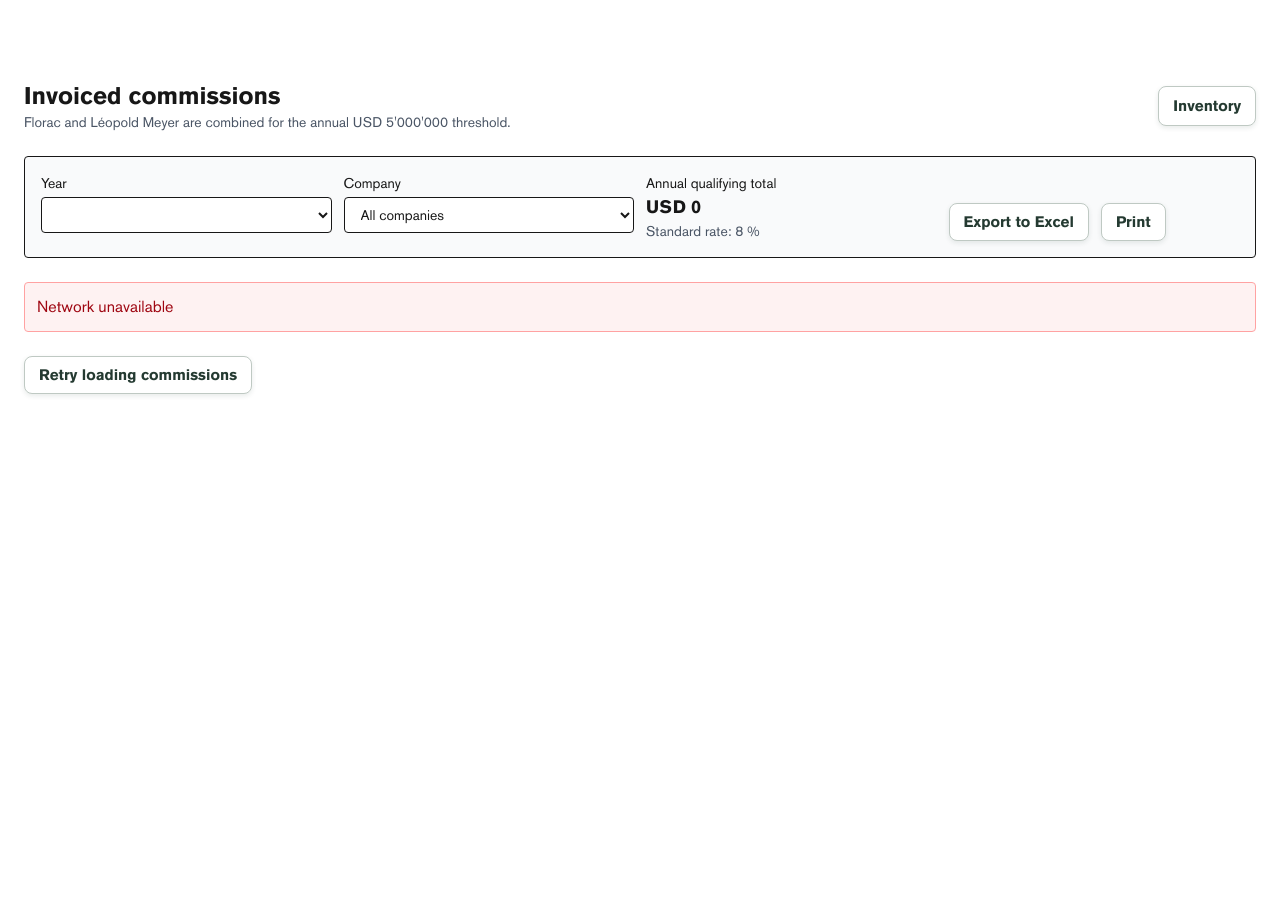
commission invoice file input › stops loading and offers retry after a network failure
Check: the message "Network unavailable" is shown, box [24,282,1256,332]
Step 1. Click the button "Retry loading commissions" → (138, 375), box [24,356,252,394]
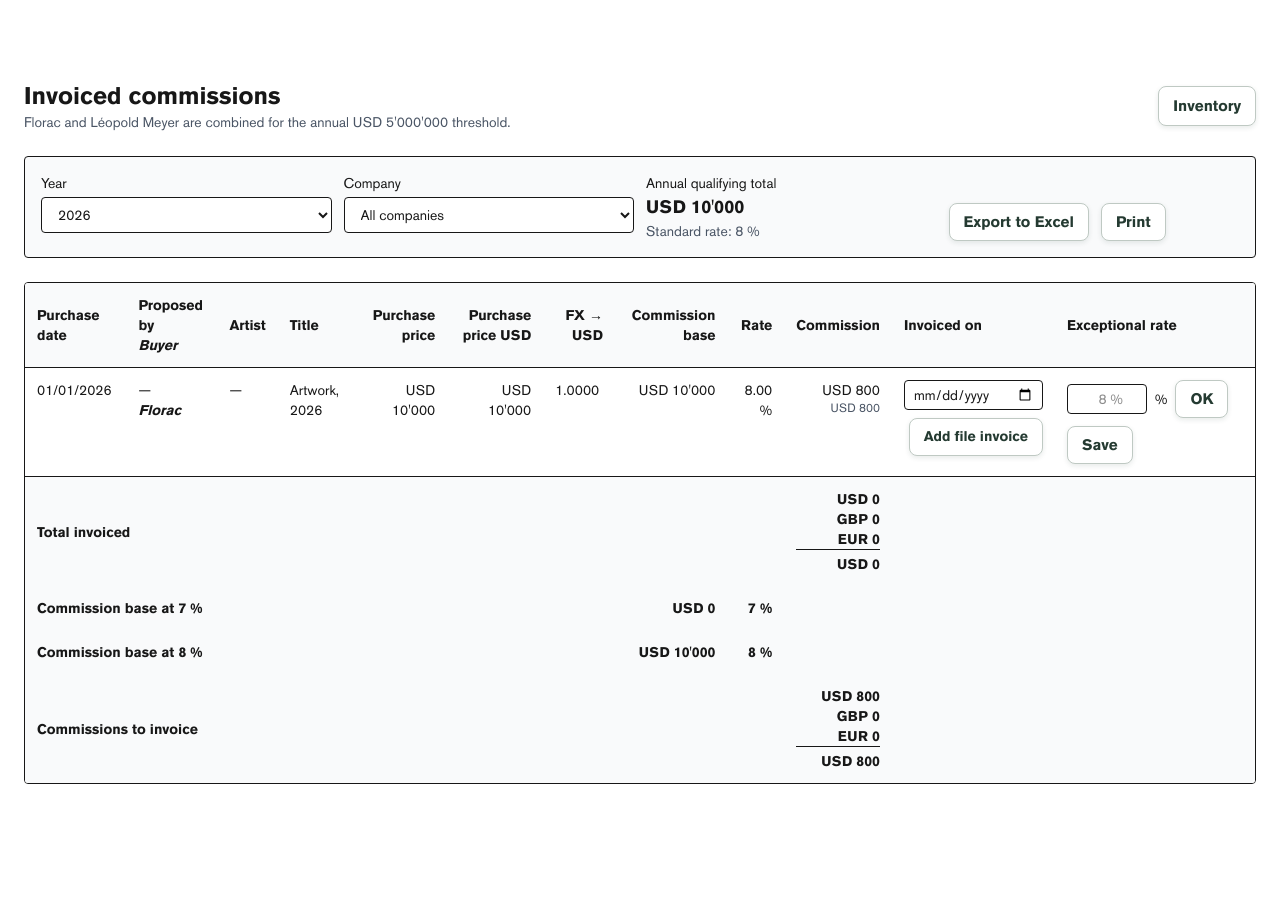
Check: the message "Network unavailable" is gone
Check: the text "Artwork" is shown, box [290,382,339,418]
